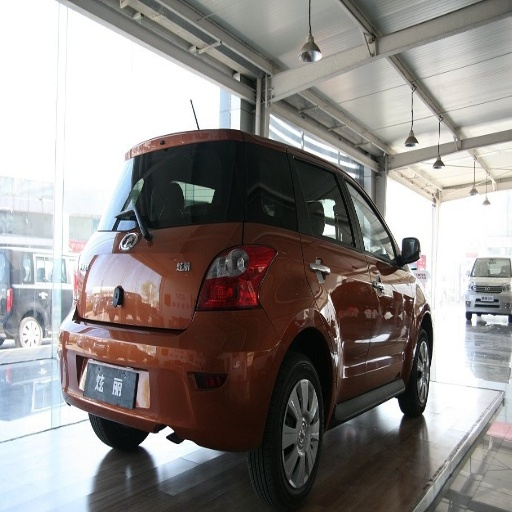back_bumper: (67, 307, 285, 445)
back_right_door: (295, 159, 375, 390)
back_right_light: (197, 246, 273, 310)
tailgate: (82, 246, 192, 325)
trunk: (101, 224, 239, 329), (76, 317, 177, 364)
